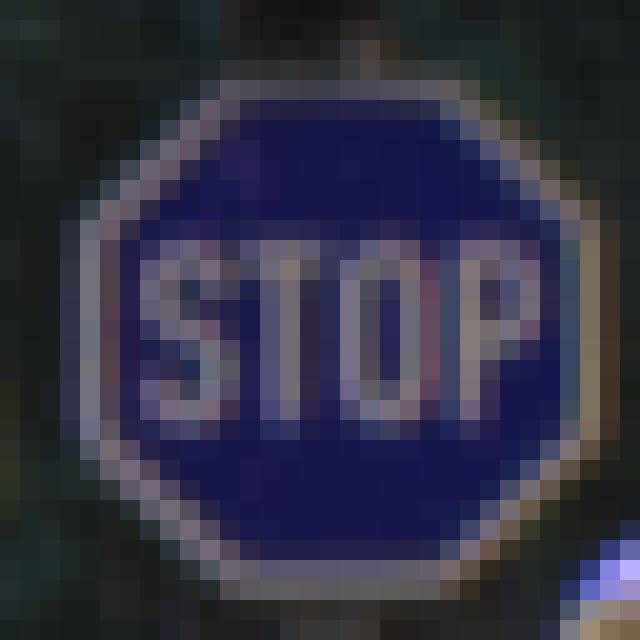STOP: (46, 86, 620, 576)
